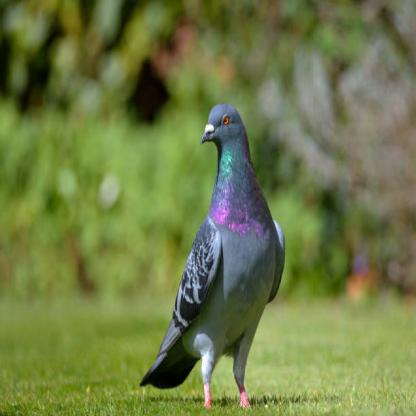Flying Rat: (146, 103, 287, 416)
